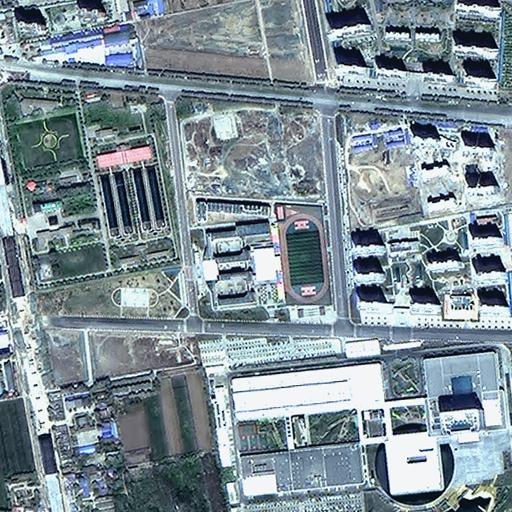school: (183, 195, 333, 324)
